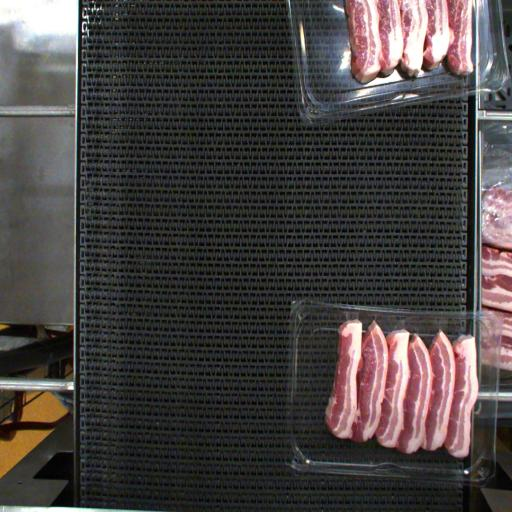packaging-error: (344, 308, 360, 325)
